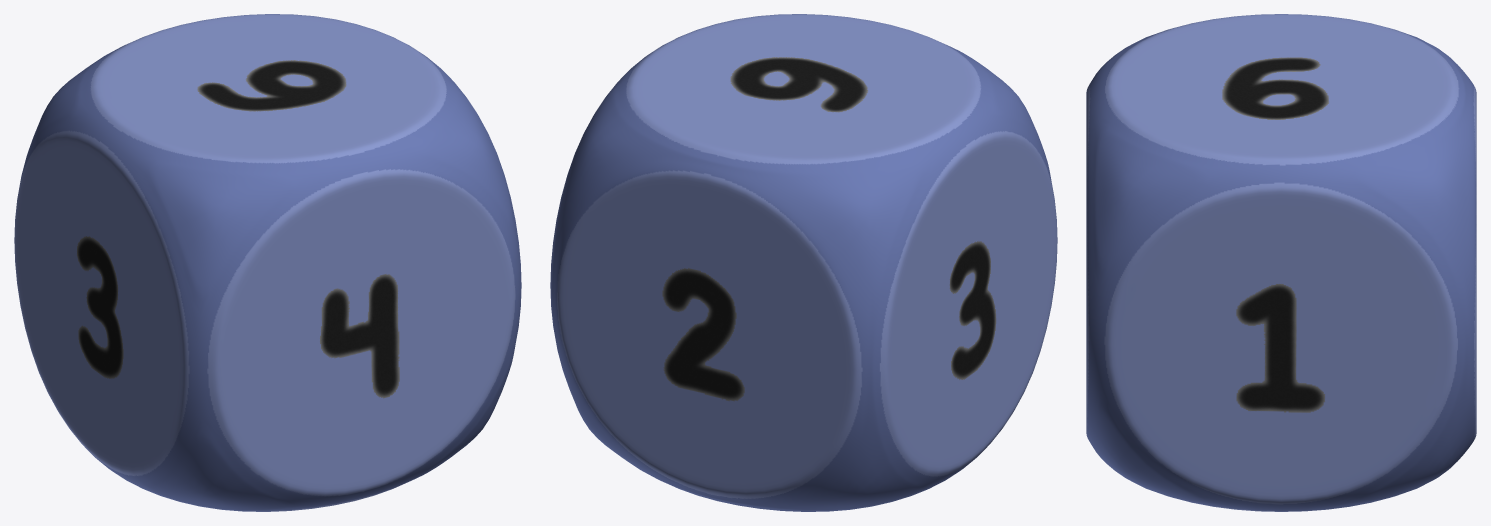
Rendered from Quinns_D6.glb.
3 renders of one model, left to right at view 1: azimuth 30°, elevation 25°; view 2: azimuth 150°, elevation 25°; view 3: azimuth 270°, elevation 25°, orthographic.
Visible parts, largest first — view 1: d6_geo; view 2: d6_geo; view 3: d6_geo.
Part boxes in pixels (x1,y1,x2,y2): d6_geo: (14, 14, 521, 511); d6_geo: (550, 14, 1057, 511); d6_geo: (1086, 14, 1476, 511).
Size of the model in its own units: 2.1 by 2.1 by 2.1.
Materials: 1 (1 with a texture image).
